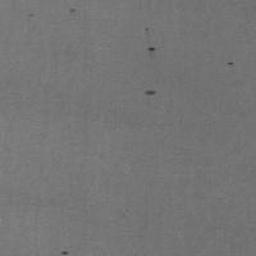Inclusion: (143, 88, 157, 96), (225, 60, 234, 68), (147, 46, 157, 52), (60, 250, 69, 256), (69, 8, 78, 13), (142, 27, 151, 32)
